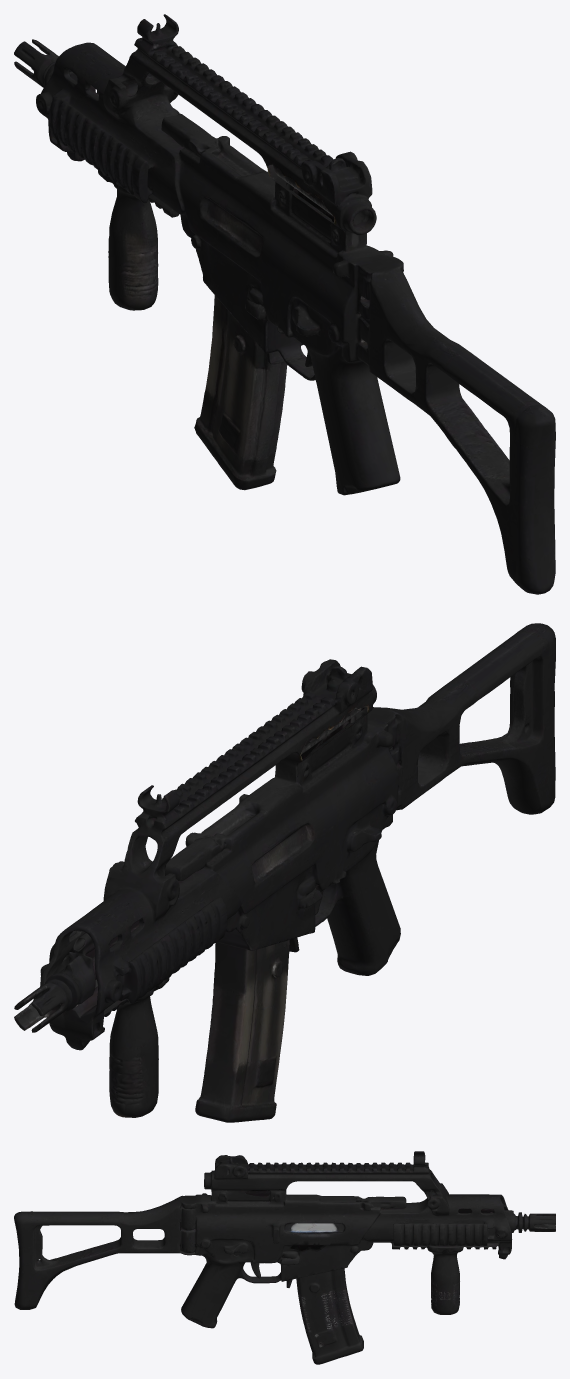
3 views of the same model, one above another, from view 1: azimuth 30°, elevation 25°; view 2: azimuth 150°, elevation 25°; view 3: azimuth 270°, elevation 25° (orthographic). The views are drawn at different scales.
Parts seen in each view (by area): view 1: G36C, g36c_mag_Mesh_0.001; view 2: G36C, g36c_mag_Mesh_0.001; view 3: G36C, g36c_mag_Mesh_0.001.
Boxes of the visible parts, x1,y1,x2,y2 form: G36C: (14, 14, 555, 594); g36c_mag_Mesh_0.001: (194, 295, 287, 490); G36C: (14, 623, 555, 1117); g36c_mag_Mesh_0.001: (195, 940, 289, 1122); G36C: (14, 1151, 555, 1328); g36c_mag_Mesh_0.001: (296, 1268, 363, 1364).
Size of the model in its own units: 0.0793 by 0.304 by 0.7199.
Materials: 1 (1 with a texture image).
